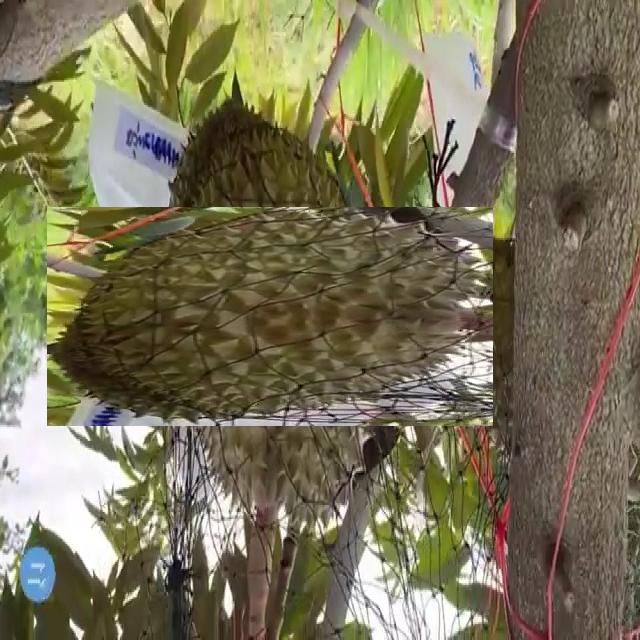durian: (103, 151, 437, 483)
